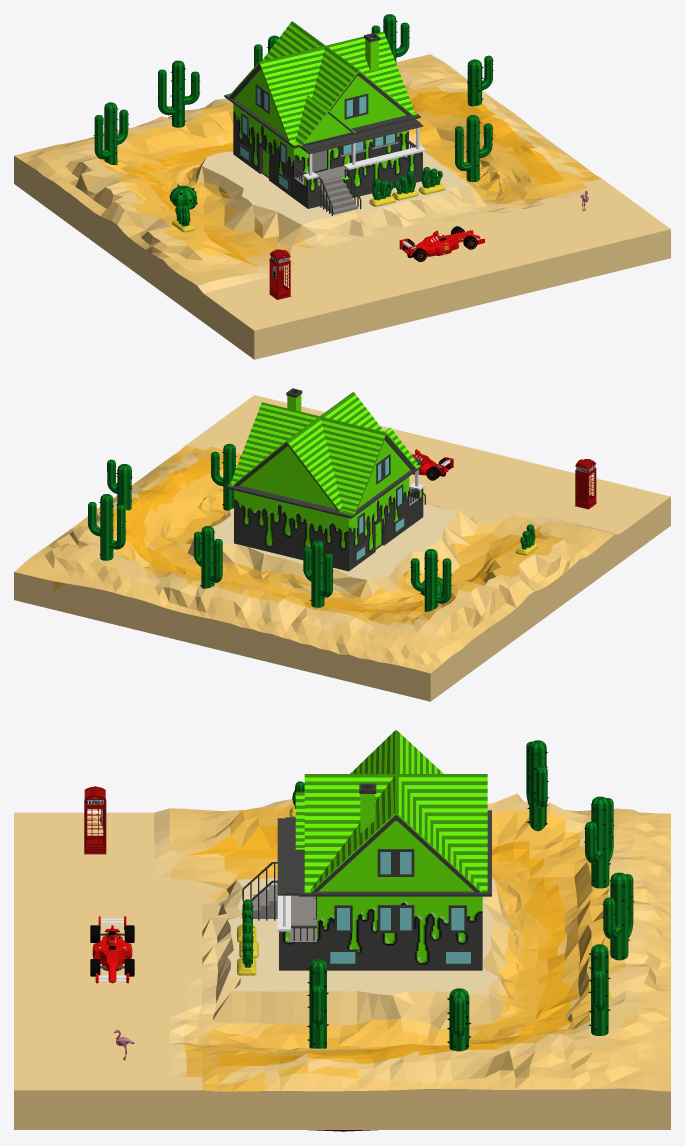
The picture shows the model from 3 angles, top to bottom: view 1: azimuth 30°, elevation 25°; view 2: azimuth 150°, elevation 25°; view 3: azimuth 270°, elevation 25°; orthographic projection. The views are drawn at different scales.
Visible parts, largest first — view 1: Cube.001, Cube.754, Cylinder.037, Cylinder.044, Cylinder.045, VEHICLES_FORMULA_1, OBJRANDOM_PHONEBOOTH, Cylinder.038, Cylinder.042, Cylinder.039, Cylinder.041, Sphere.023 (+1 smaller); view 2: Cube.001, Cube.754, Cylinder.042, Cylinder.045, Cylinder.044, Cylinder.043, Cylinder.037, OBJRANDOM_PHONEBOOTH, Cylinder.038, VEHICLES_FORMULA_1; view 3: Cube.001, Cube.754, VEHICLES_FORMULA_1, Cylinder.043, Cylinder.044, Cylinder.045, Cylinder.042, Cylinder.037, OBJRANDOM_PHONEBOOTH, Cylinder.038, Cylinder.041.
Part boxes in pixels (x1,y1,x2,y2): Cube.001: (14,54,670,359); Cube.754: (224,21,425,215); Cylinder.037: (454,115,493,182); Cylinder.044: (157,60,200,127); Cylinder.045: (93,102,129,164); VEHICLES_FORMULA_1: (399,226,484,261); OBJRANDOM_PHONEBOOTH: (269,249,291,299); Cylinder.038: (467,55,493,106); Cylinder.042: (371,14,409,62); Cylinder.039: (369,179,395,206); Cylinder.041: (418,167,445,194); Sphere.023: (169,184,197,209); Cube.001: (14,395,670,701); Cube.754: (225,388,425,571); Cylinder.042: (88,494,126,560); Cylinder.045: (410,549,452,611); Cylinder.044: (303,540,333,607); Cylinder.043: (193,526,222,588); Cylinder.037: (211,443,241,510); OBJRANDOM_PHONEBOOTH: (575,459,596,509); Cylinder.038: (107,459,132,510); VEHICLES_FORMULA_1: (410,449,453,480); Cube.001: (14,793,670,1129); Cube.754: (242,730,491,970); VEHICLES_FORMULA_1: (90,916,134,983); Cylinder.043: (602,872,634,960); Cylinder.044: (584,796,614,888); Cylinder.045: (526,740,549,831); Cylinder.042: (588,944,610,1035); Cylinder.037: (307,959,328,1048); OBJRANDOM_PHONEBOOTH: (84,786,106,854); Cylinder.038: (447,988,471,1051); Cylinder.041: (237,932,256,975).
Size of the model in its own units: 4002 by 1693 by 4001.
Materials: 42 (3 with a texture image).
